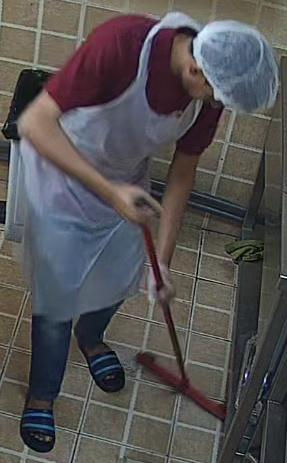apron: (26, 6, 242, 243)
